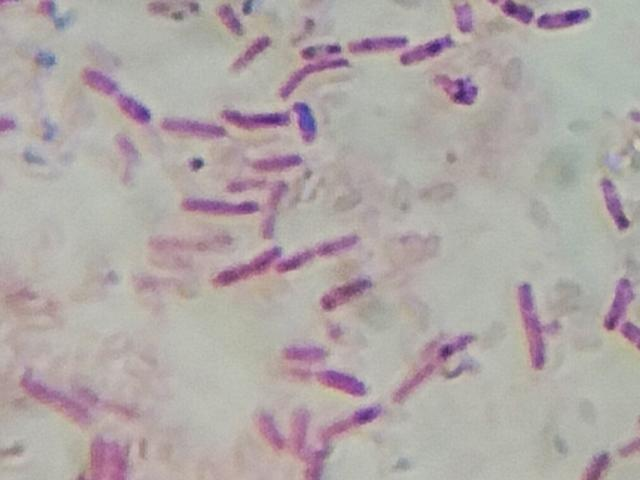E. coli: (22, 372, 92, 425), (519, 282, 553, 375), (278, 234, 365, 270), (276, 54, 337, 95), (602, 172, 632, 247), (314, 277, 378, 310), (212, 252, 279, 282), (163, 111, 224, 141), (180, 198, 254, 221), (320, 365, 363, 400), (542, 4, 595, 31), (400, 39, 457, 64), (285, 337, 330, 367), (230, 40, 269, 73), (250, 150, 304, 172), (353, 32, 407, 54), (609, 271, 627, 336), (122, 92, 153, 127), (86, 70, 121, 99), (216, 4, 249, 34), (495, 1, 537, 24), (450, 2, 477, 37), (299, 41, 346, 60), (290, 405, 308, 453), (259, 417, 282, 447)
